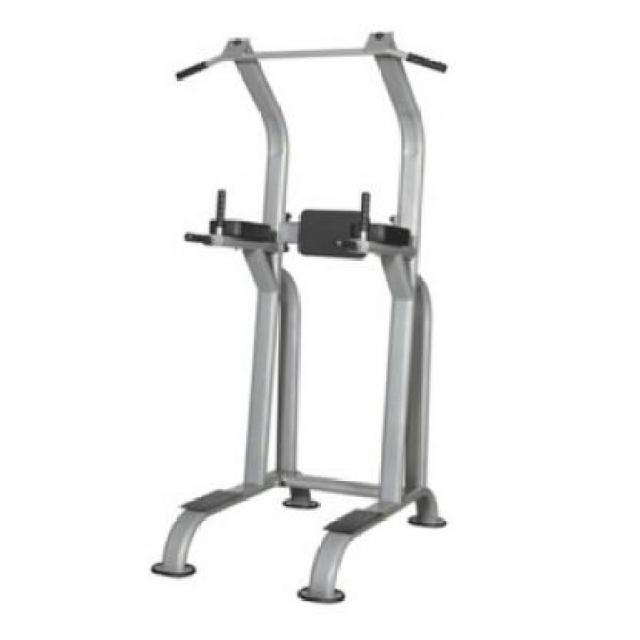chinning dipping: (151, 32, 449, 606)
